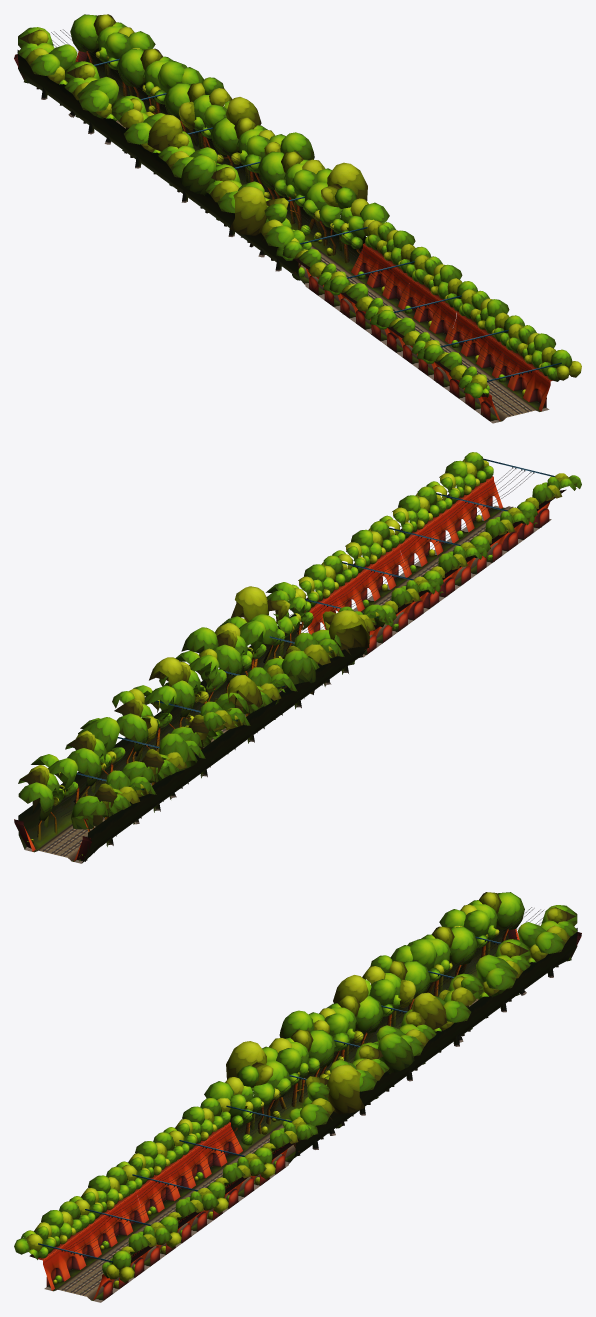
File: street.glb
The picture shows the model from 3 angles, top to bottom: view 1: azimuth 30°, elevation 25°; view 2: azimuth 150°, elevation 25°; view 3: azimuth 330°, elevation 25°; orthographic projection.
Parts seen in each view (by area): view 1: Object_6, Object_5, Object_4.493, Object_4.259, Object_4.498, Object_4.264; view 2: Object_6, Object_5, Object_4.493, Object_4.259, Object_4.498; view 3: Object_6, Object_5, Object_4.260, Object_4.494, Object_4.498, Object_4.264.
Boxes of the visible parts, box(x1,y1,x2,y2) form: Object_6: box(14, 14, 389, 285); Object_5: box(329, 255, 581, 423); Object_4.493: box(448, 311, 505, 377); Object_4.259: box(354, 243, 411, 308); Object_4.498: box(399, 341, 494, 389); Object_4.264: box(305, 273, 400, 320); Object_6: box(14, 582, 393, 863); Object_5: box(332, 452, 581, 622); Object_4.493: box(395, 510, 455, 575); Object_4.259: box(290, 579, 361, 634); Object_4.498: box(401, 539, 504, 588); Object_6: box(204, 892, 581, 1164); Object_5: box(14, 1132, 266, 1302); Object_4.260: box(183, 1122, 239, 1187); Object_4.494: box(88, 1190, 145, 1256); Object_4.498: box(99, 1220, 194, 1268); Object_4.264: box(193, 1152, 288, 1199).
Size of the model in its own units: 306 by 169 by 1824.
Materials: 1 (1 with a texture image).
